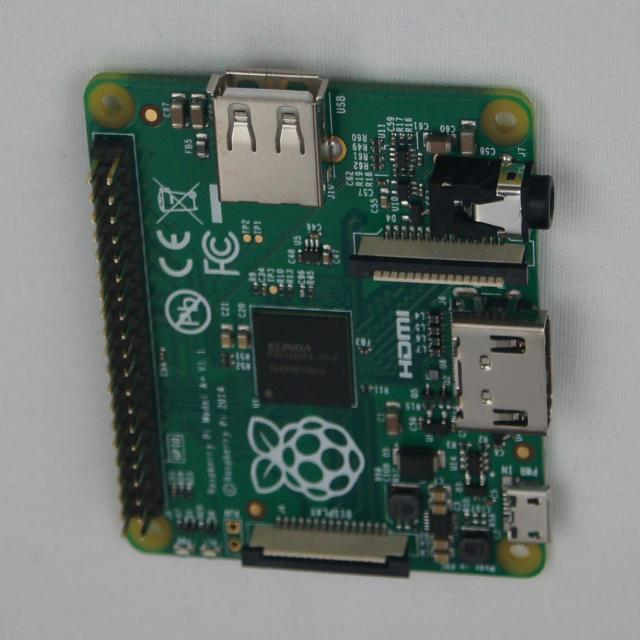Raspberry-Pi-1-A-: (84, 71, 555, 578)
